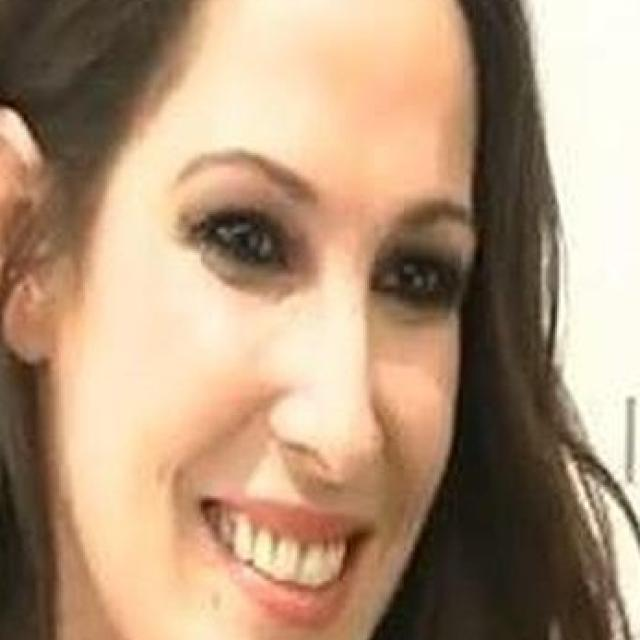Normal: (41, 0, 477, 638)
